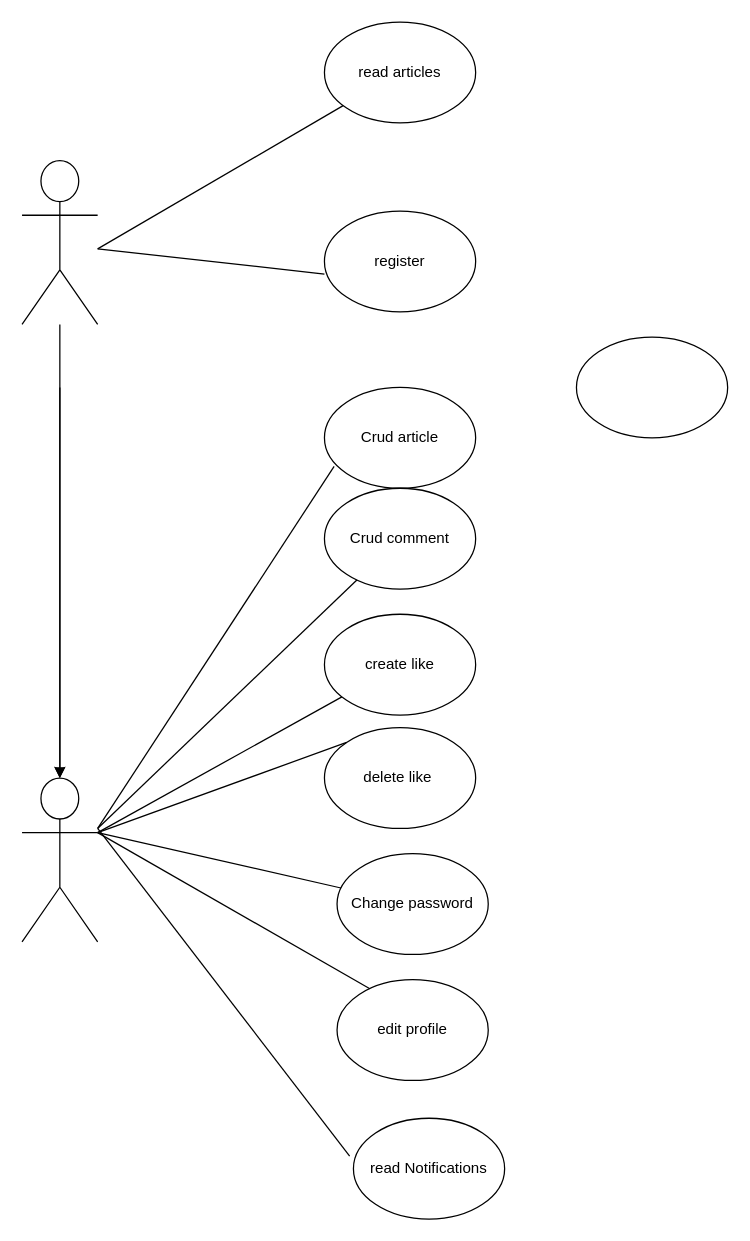
The diagram is 750 pixels wide and 1241 high, and some of its shapes have lost their labels. Each missing label, with the box of its shape:
admin: (21, 777, 98, 942)
login: (575, 336, 728, 438)
visiteur: (21, 159, 98, 324)
